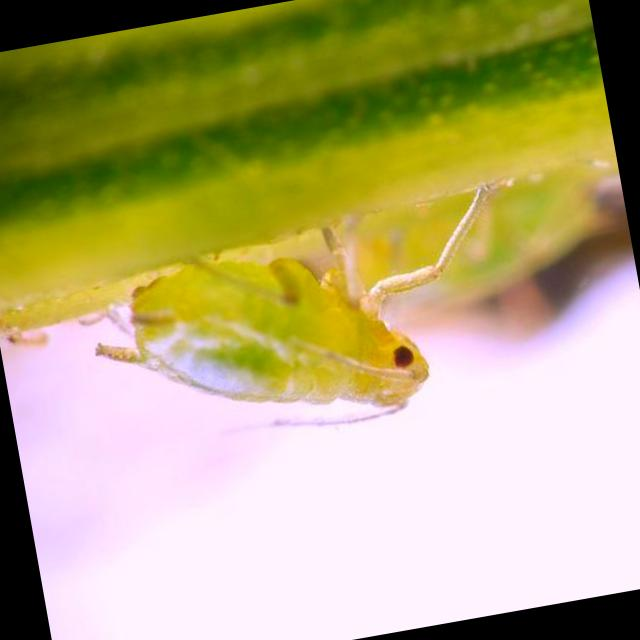Aphid: (49, 143, 559, 506)
